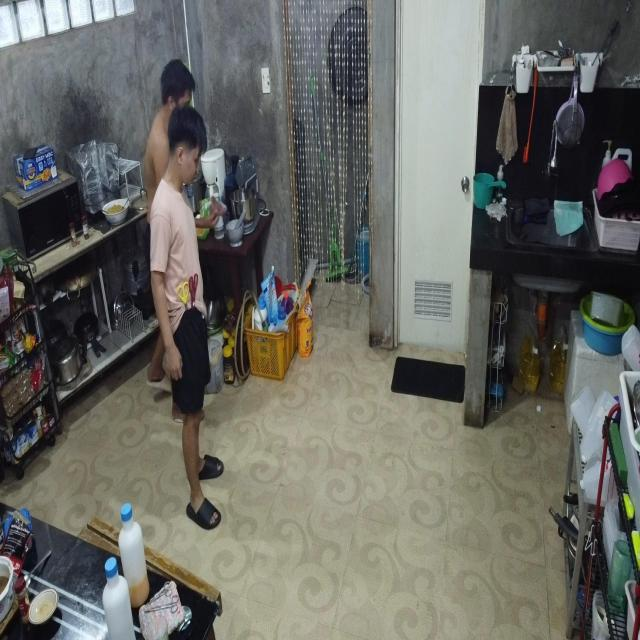scissor: (146, 581, 172, 604), (145, 595, 178, 613), (188, 273, 198, 309), (178, 282, 190, 310)
